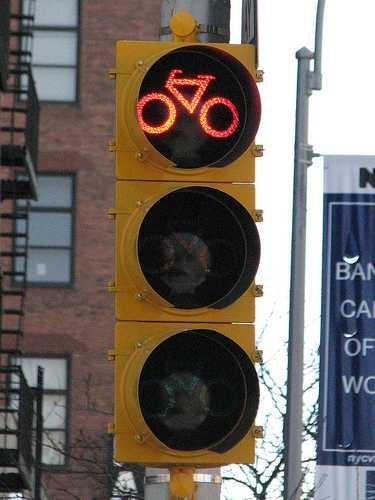red: (121, 51, 259, 466), (123, 45, 258, 187)
